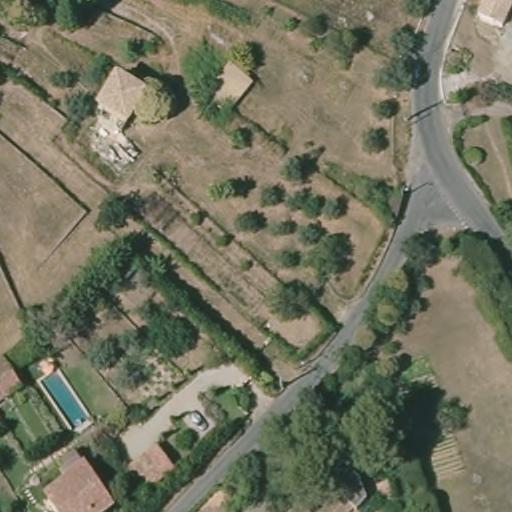pool: (29, 363, 99, 436)
